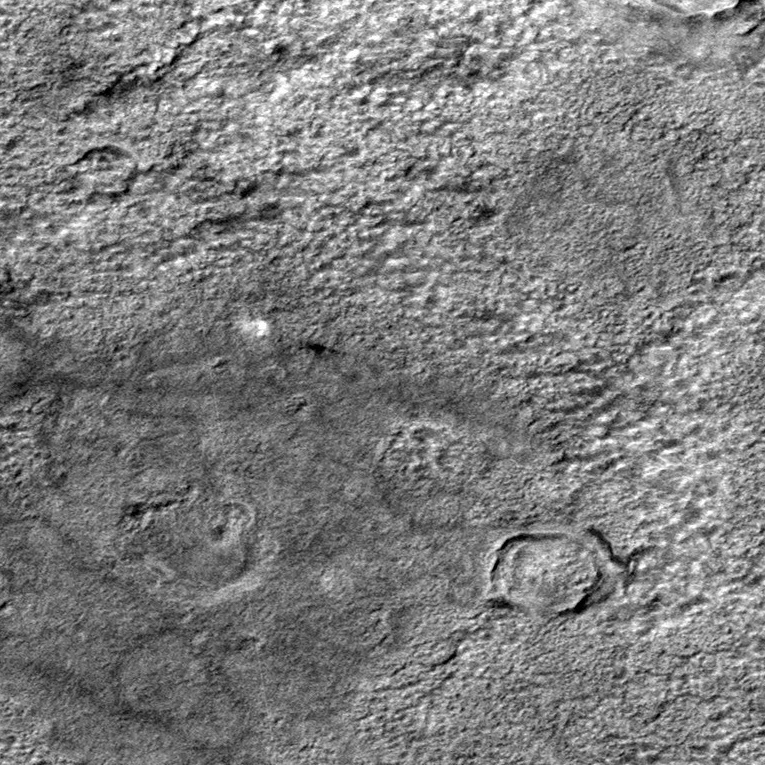dust_devil: (236, 317, 341, 357)
